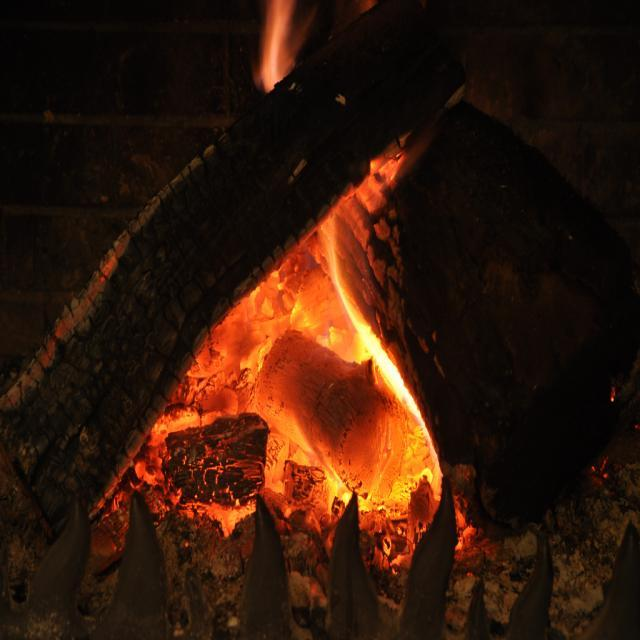Fire: (247, 282, 399, 500)
